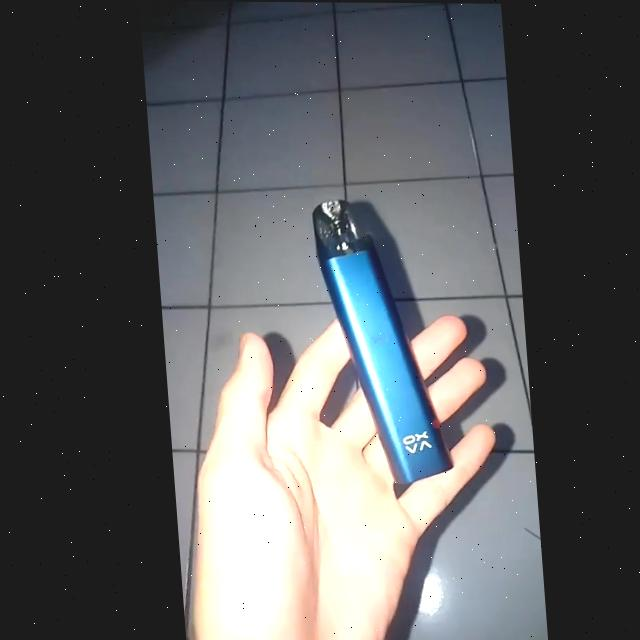vape: (307, 199, 449, 485)
